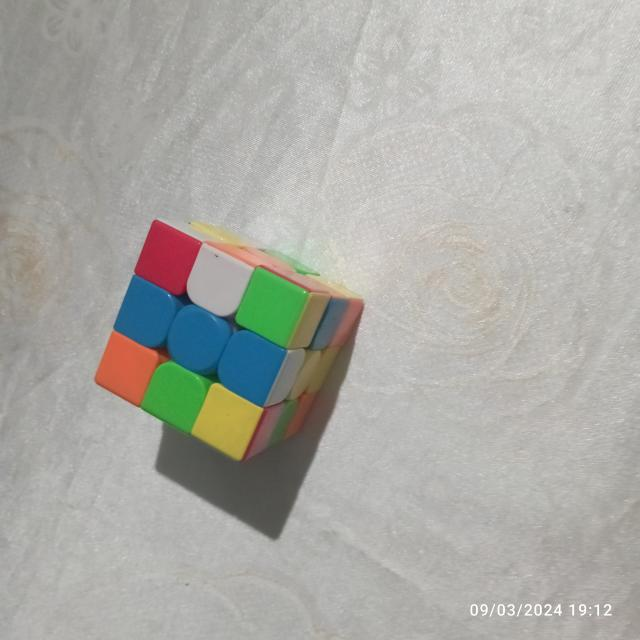Rub: (85, 216, 361, 468)
